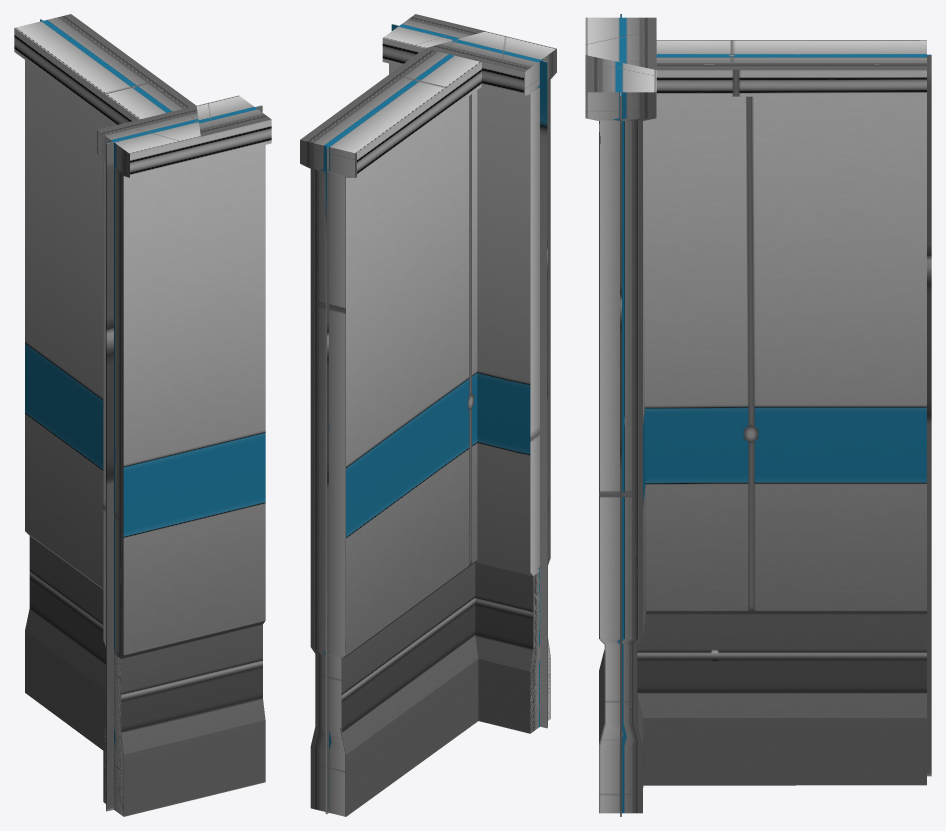
File: TPC_SSM_LU_BB.fbx
3 views of the same model, side by side, from view 1: azimuth 30°, elevation 25°; view 2: azimuth 150°, elevation 25°; view 3: azimuth 270°, elevation 25° (orthographic). The views are drawn at different scales.
Visible parts, largest first — view 1: TPC_SSM_LU_BB; view 2: TPC_SSM_LU_BB; view 3: TPC_SSM_LU_BB.
Part boxes in pixels (<box>): TPC_SSM_LU_BB: <box>14,14,271,816</box>; TPC_SSM_LU_BB: <box>300,14,556,816</box>; TPC_SSM_LU_BB: <box>585,14,931,816</box>.
Bounding box in the file's own units: 1.1 × 4.5 × 1.96.
